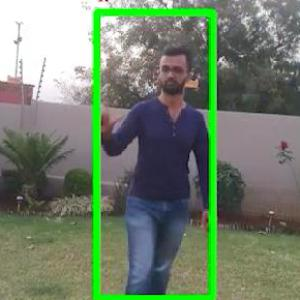land_hand: (90, 97, 125, 138)
